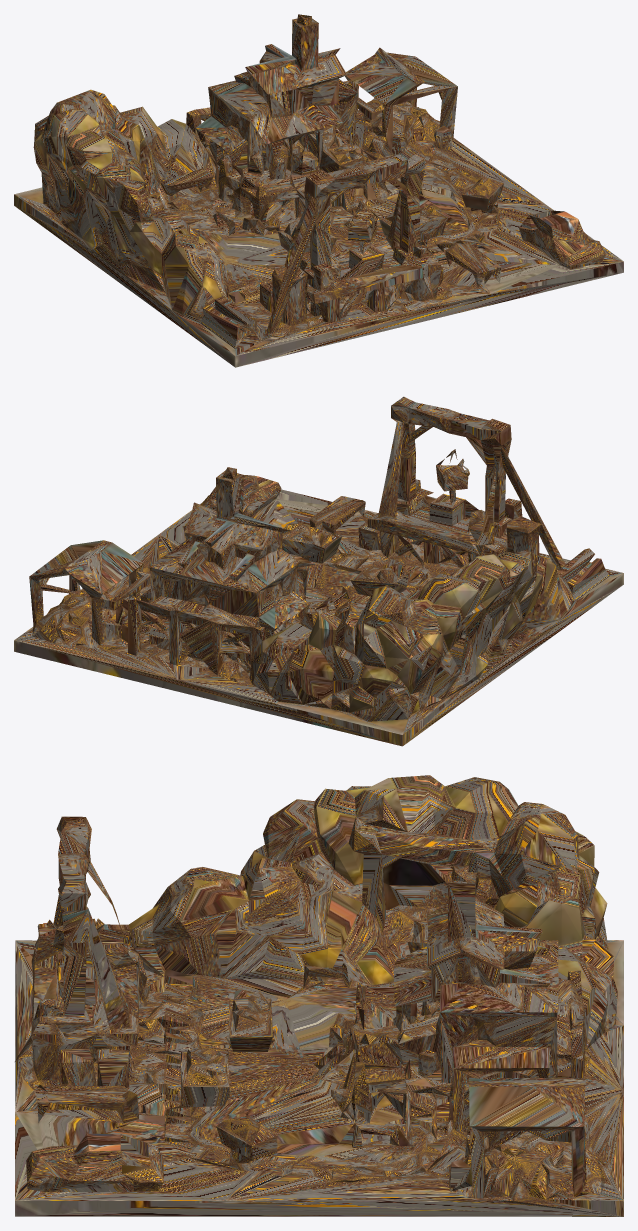
The model's file is gold_mine.glb.
3 views of the same model, one above another, from view 1: azimuth 30°, elevation 25°; view 2: azimuth 150°, elevation 25°; view 3: azimuth 270°, elevation 25° (orthographic). The views are drawn at different scales.
Parts seen in each view (by area): view 1: normalize; view 2: normalize; view 3: normalize.
Part boxes in pixels (x1=…): normalize: x1=14, y1=14, x2=623, y2=367; normalize: x1=14, y1=396, x2=623, y2=746; normalize: x1=15, y1=775, x2=623, y2=1216.
Size of the model in its own units: 1 by 0.4095 by 0.9299.
Materials: 1 (1 with a texture image).
